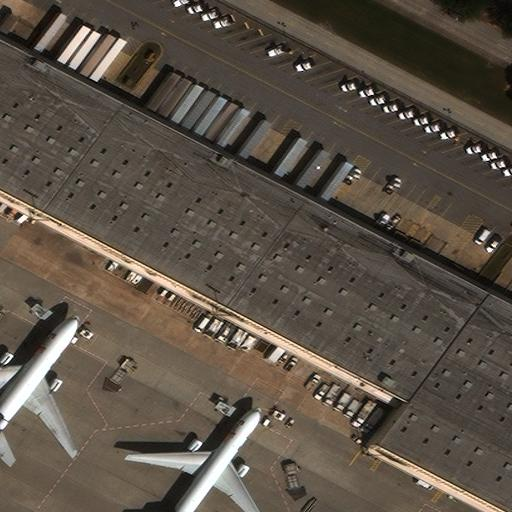Large Civil Transport: (128, 406, 268, 512), (0, 314, 78, 450)
